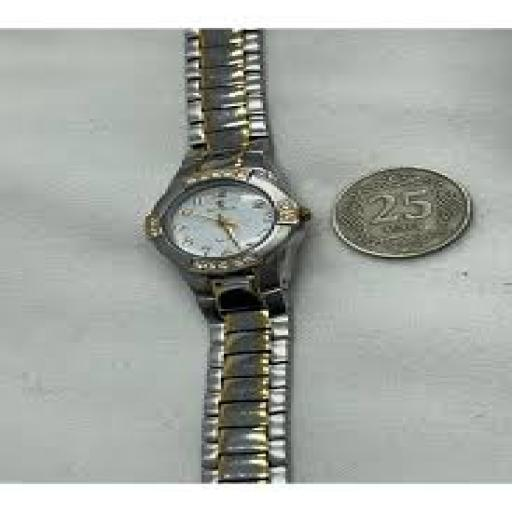KolSaati: (123, 30, 324, 483)
